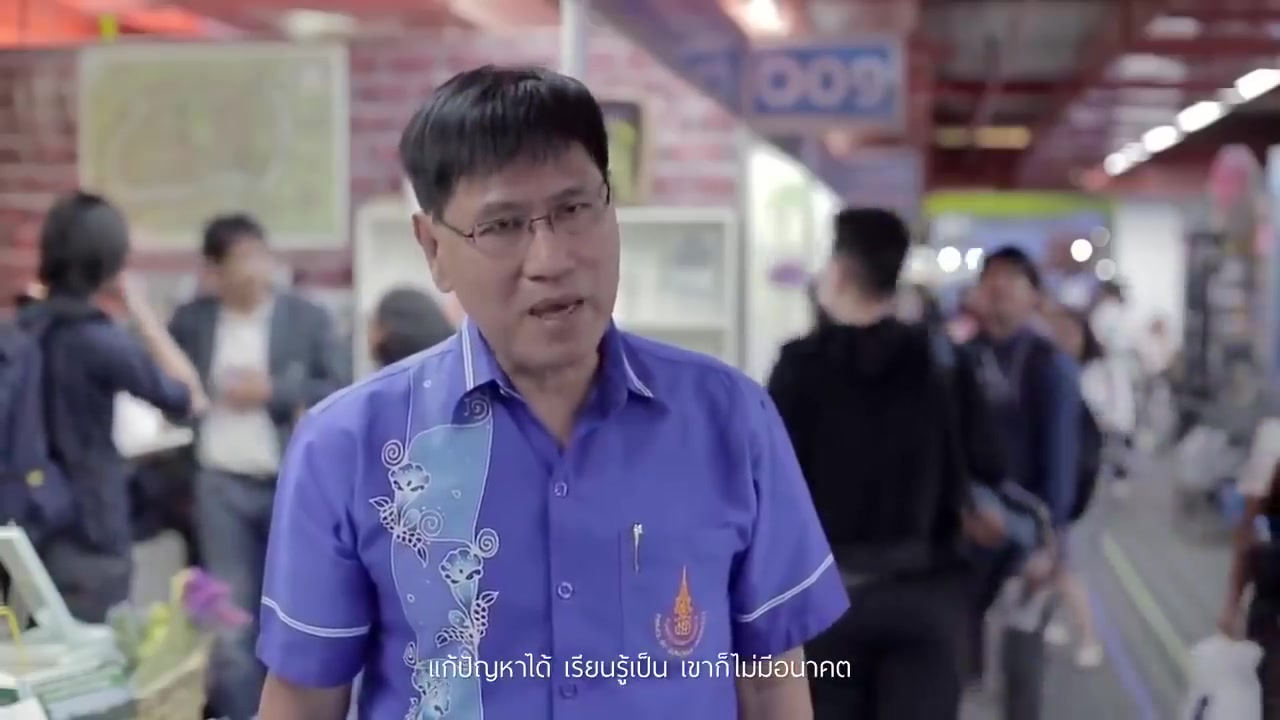text-label: (424, 647, 858, 686)
